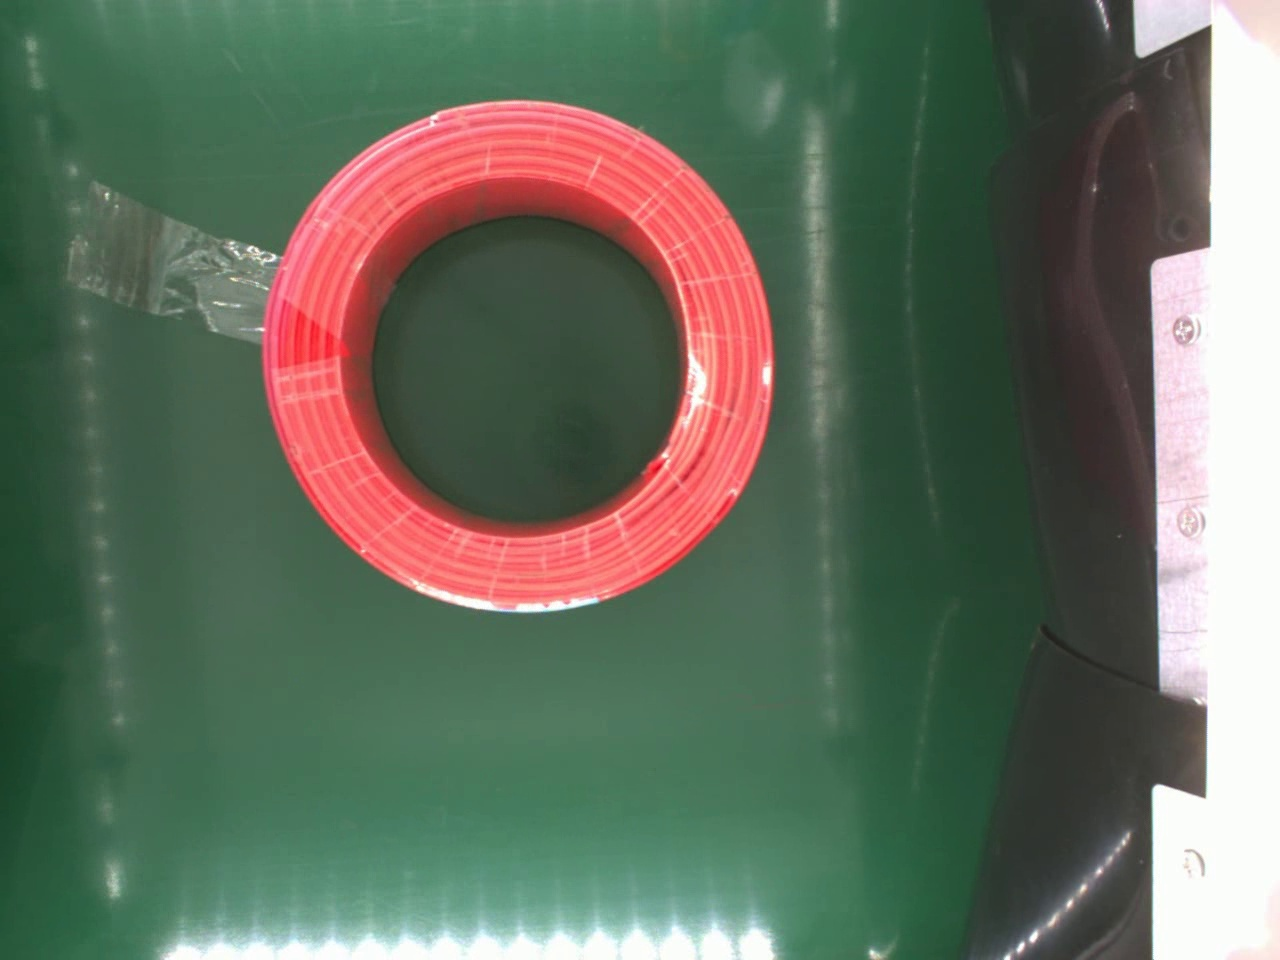red: (258, 92, 774, 614)
